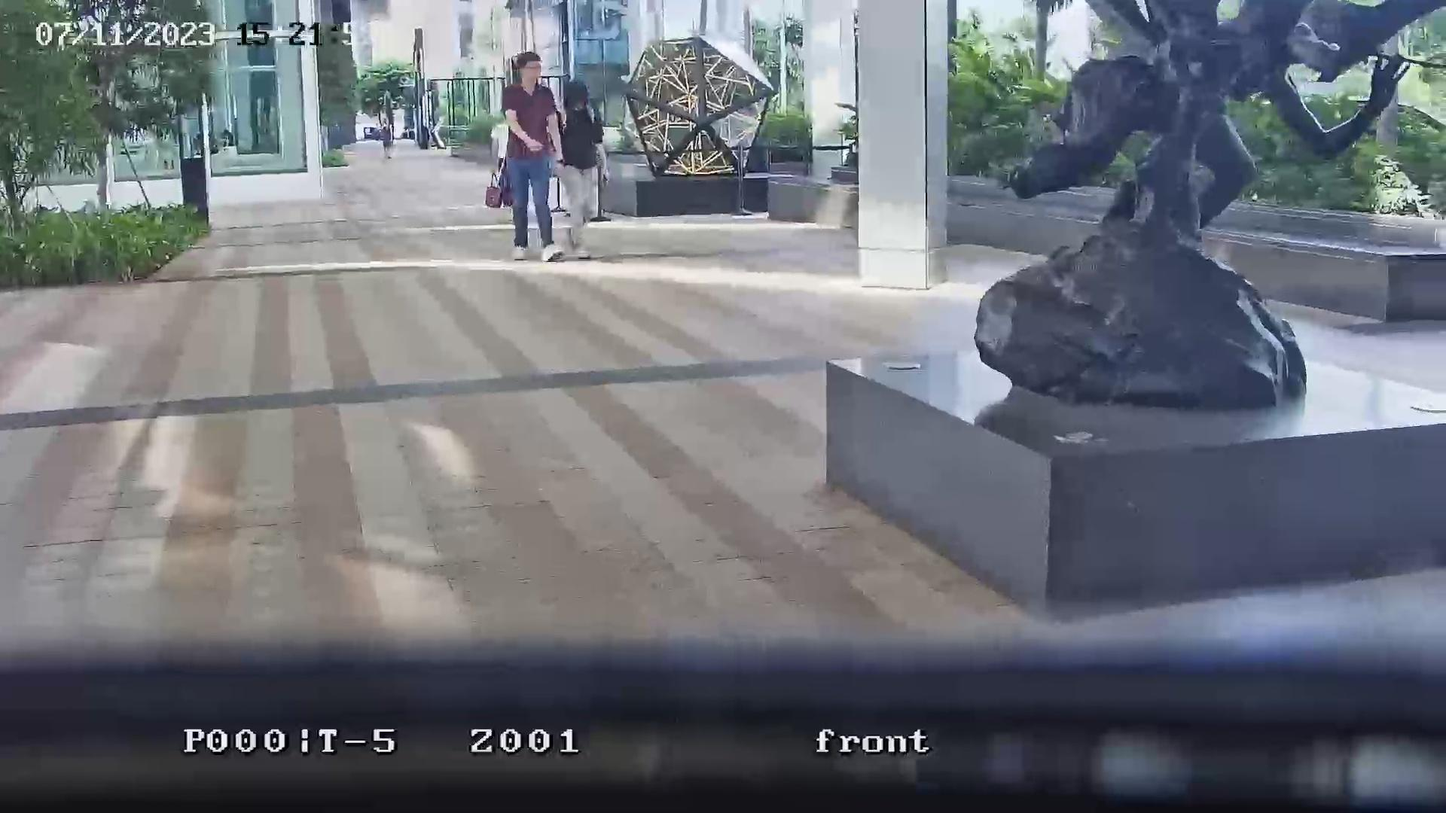person: (502, 51, 566, 263), (553, 80, 608, 260), (380, 121, 393, 160)
